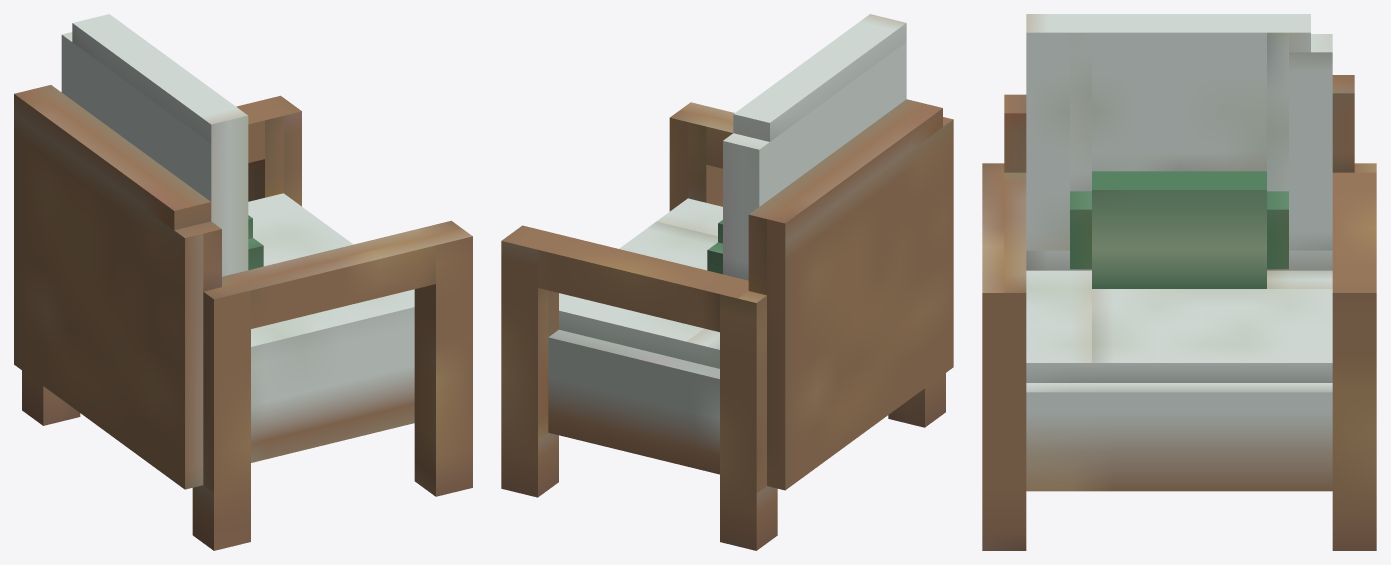
Rendered from ChairWhiteWithGreenPillow_01.fbx.
3 views of the same model, side by side, from view 1: azimuth 30°, elevation 25°; view 2: azimuth 150°, elevation 25°; view 3: azimuth 270°, elevation 25° (orthographic). The views are drawn at different scales.
Parts seen in each view (by area): view 1: ChairWhiteWithGreenPillow_01; view 2: ChairWhiteWithGreenPillow_01; view 3: ChairWhiteWithGreenPillow_01.
Part boxes in pixels (bbox=[...]): ChairWhiteWithGreenPillow_01: bbox=[14, 14, 472, 550]; ChairWhiteWithGreenPillow_01: bbox=[501, 14, 953, 550]; ChairWhiteWithGreenPillow_01: bbox=[982, 14, 1376, 550].
Bounding box in the file's own units: 75 × 90 × 105.
1 material, 1 textured.
